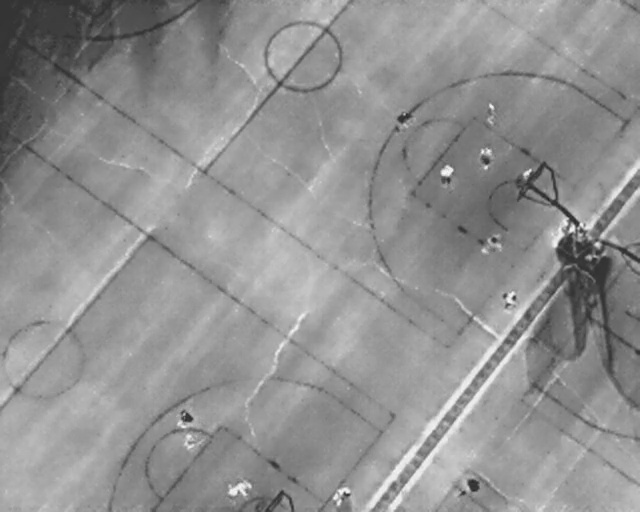Person: (227, 480, 254, 503), (481, 231, 501, 257), (462, 475, 480, 501), (478, 141, 493, 172), (333, 485, 351, 508), (178, 408, 193, 433), (502, 288, 519, 310), (440, 161, 453, 188), (398, 110, 413, 133), (485, 98, 496, 127), (185, 433, 196, 451)
